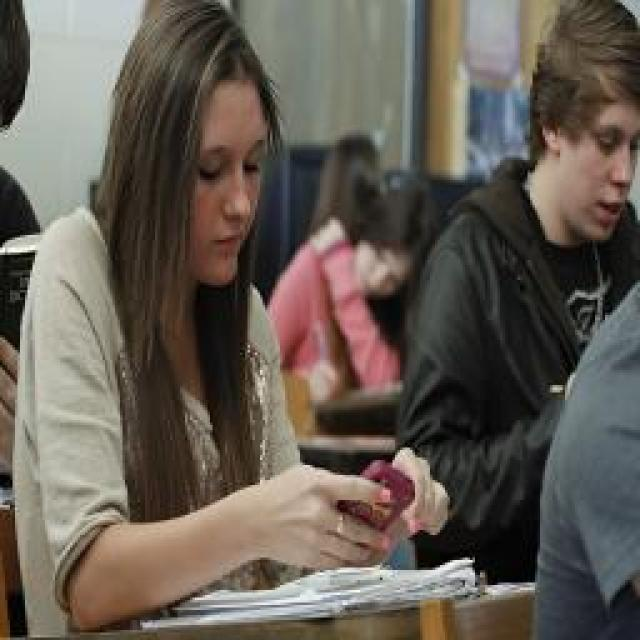phone: (12, 0, 448, 640)
study: (268, 180, 440, 442)
